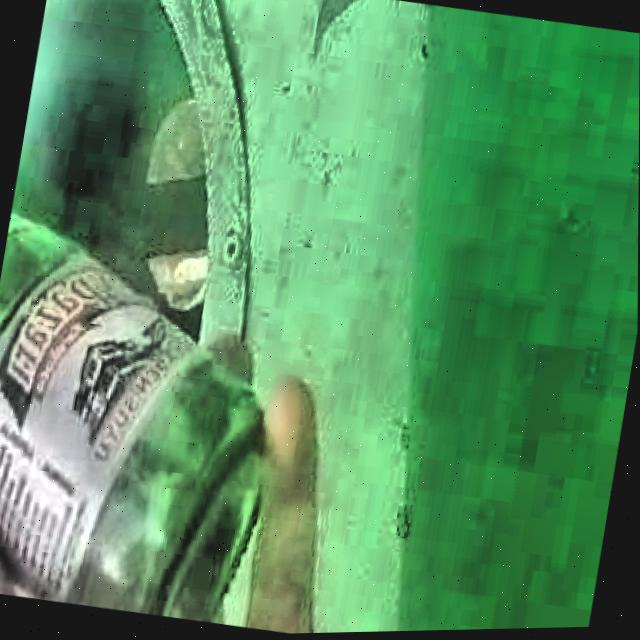glass: (0, 210, 260, 624)
